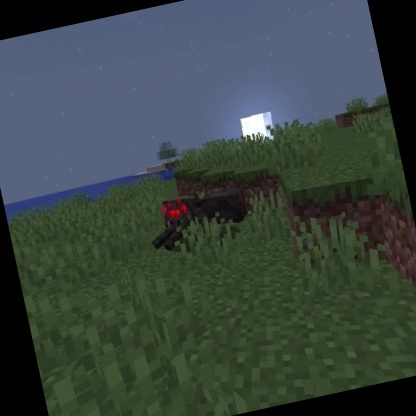spider: (139, 179, 254, 256)
